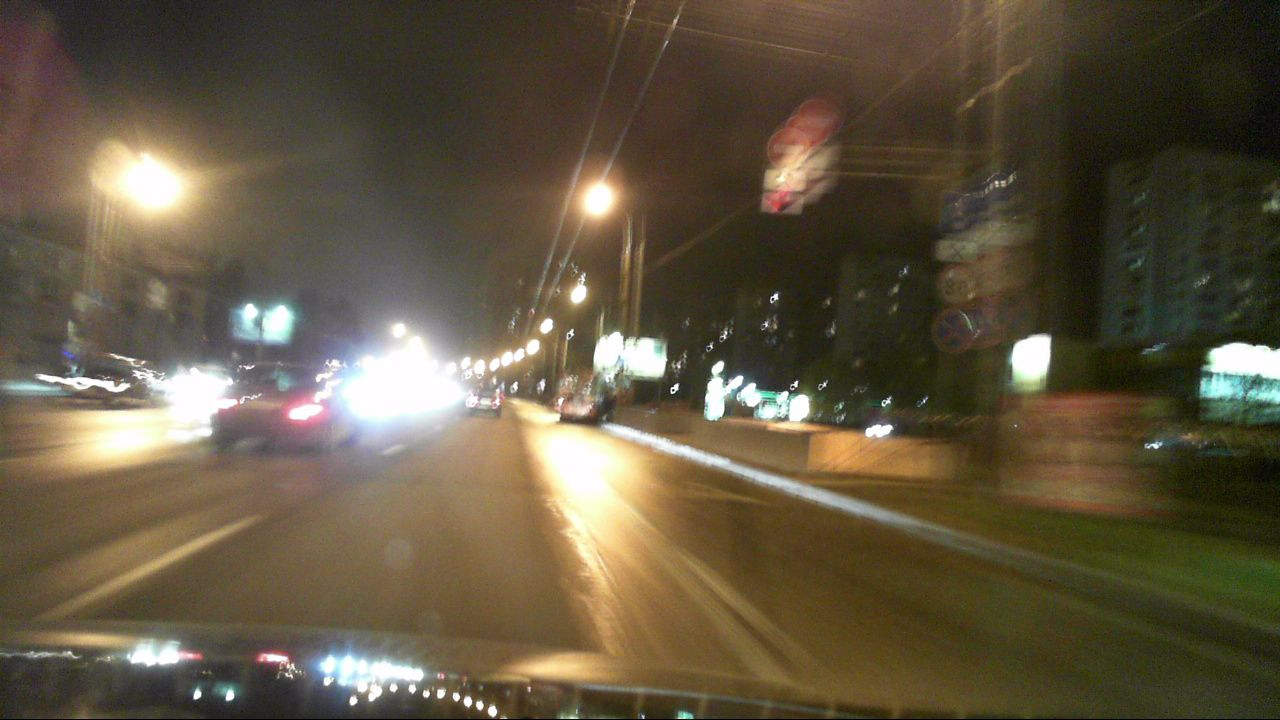No Parking: (928, 308, 975, 351)
